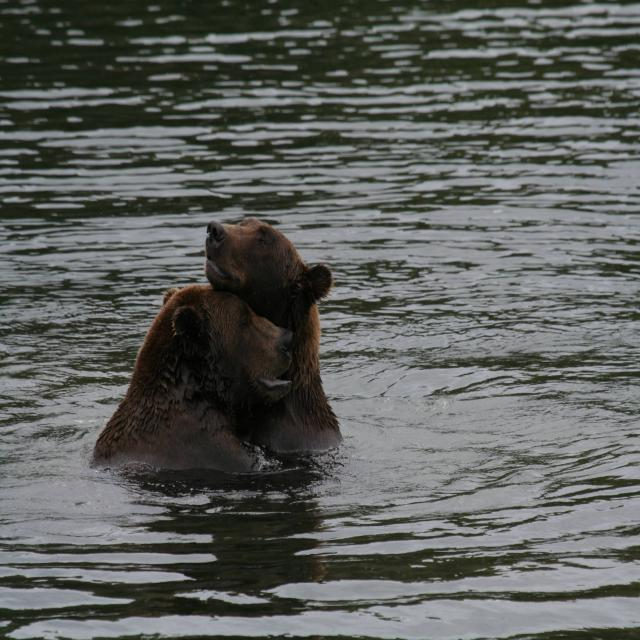bear face: (95, 286, 297, 469), (206, 217, 340, 438)
